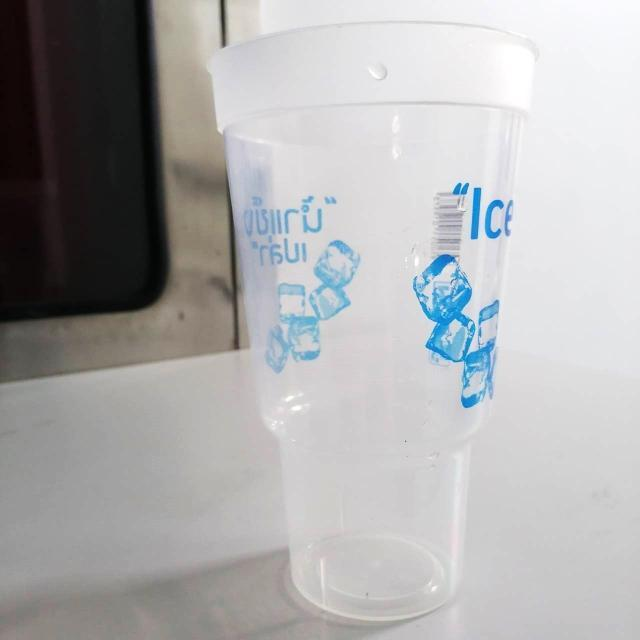Plastico descartable: (208, 21, 541, 629)
